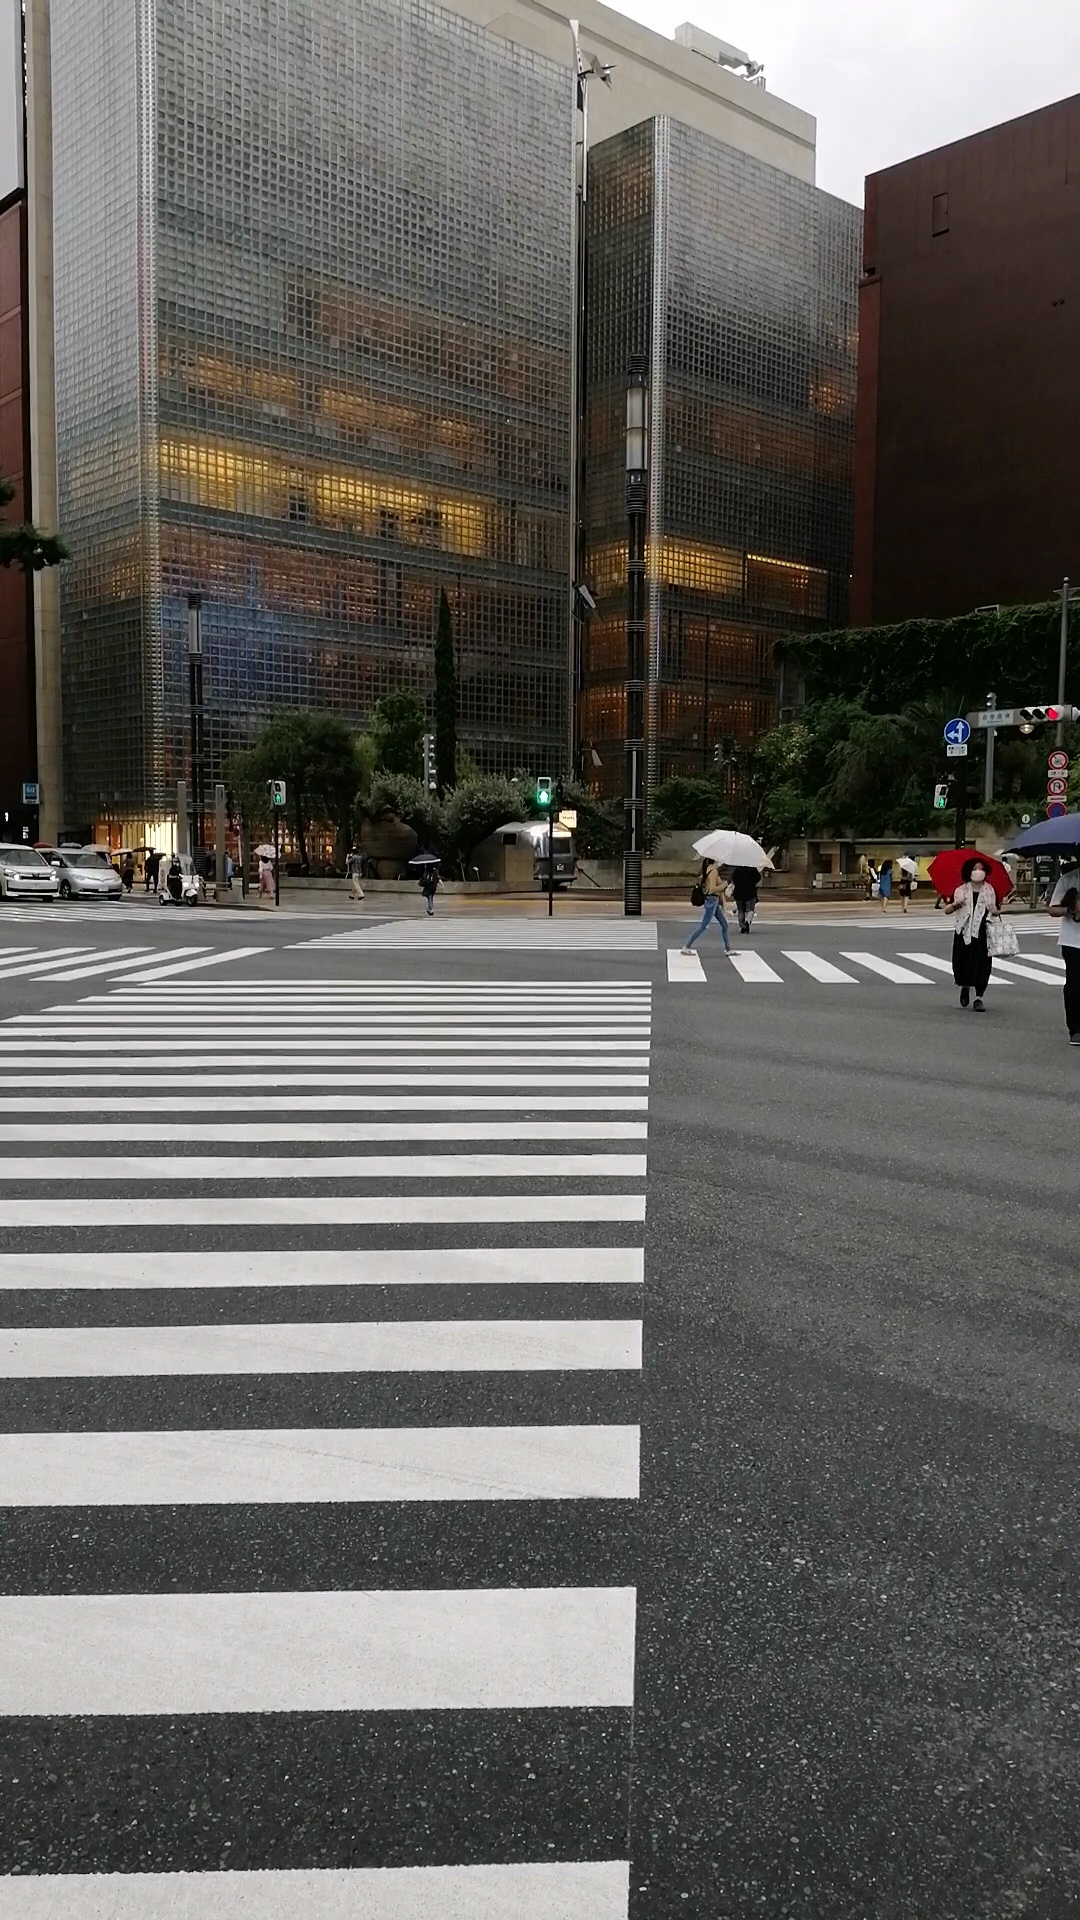green: (535, 777, 551, 804), (272, 779, 285, 807), (932, 782, 945, 810)
